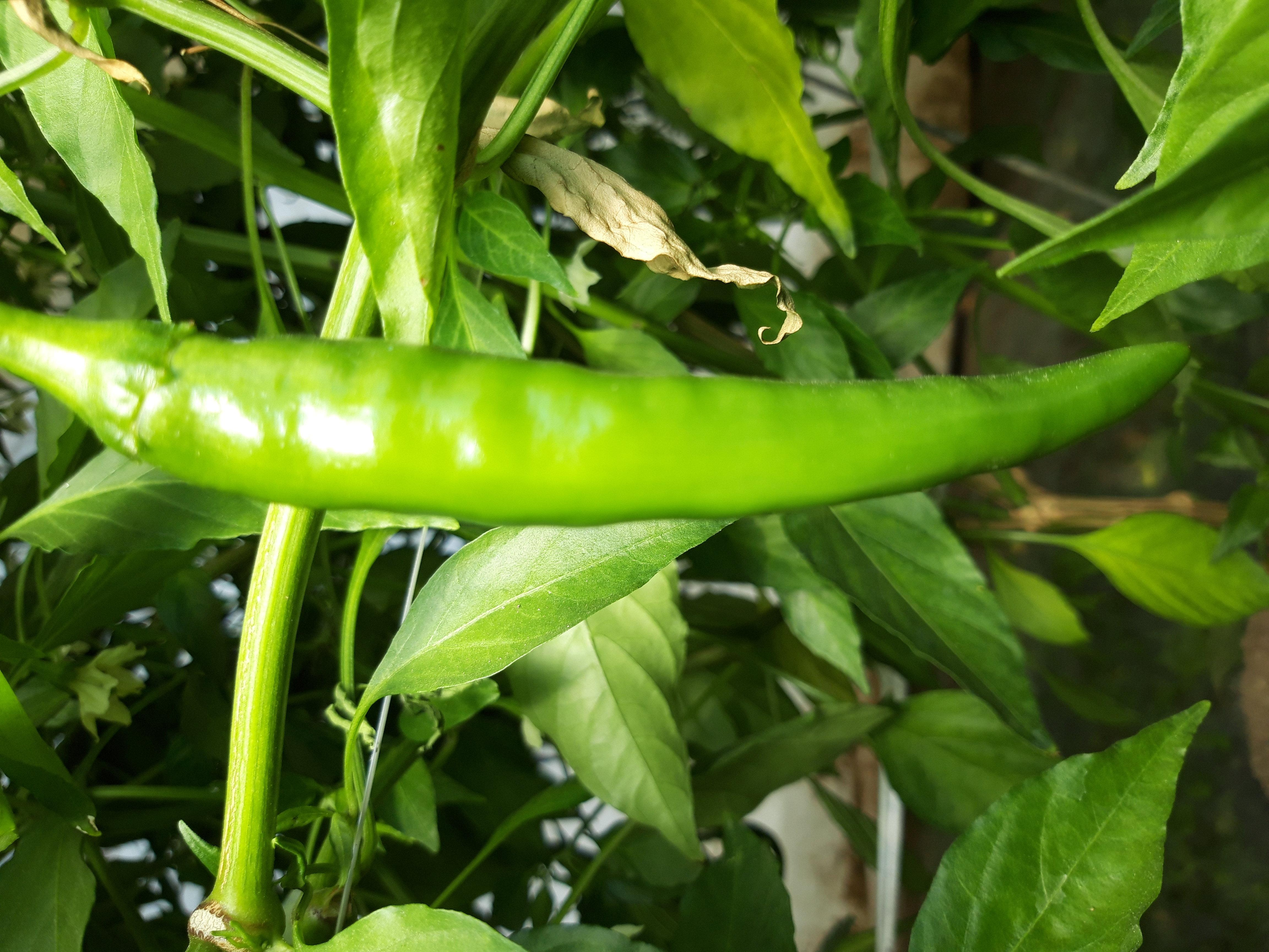Buah Cabai Sehat: (2, 300, 1192, 528)
